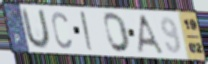9: (160, 15, 182, 55)
A: (136, 13, 166, 55)
C: (50, 10, 73, 50)
I: (79, 11, 95, 53)
O: (103, 12, 131, 55)
U: (20, 6, 52, 51)
